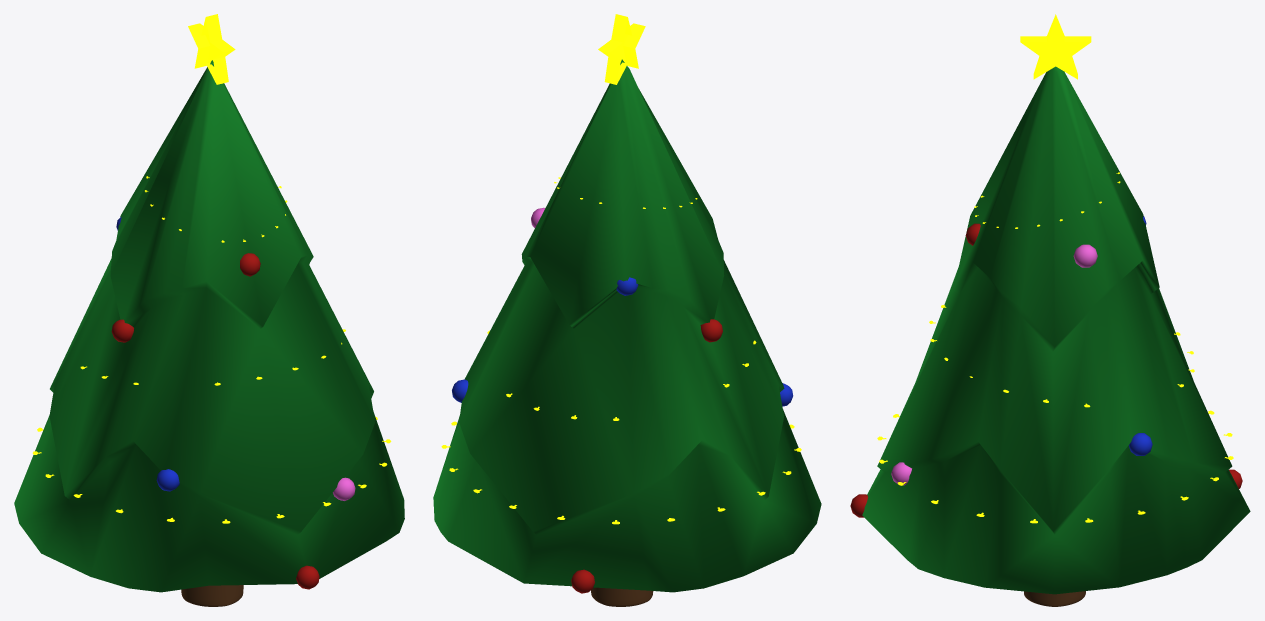
File: christmastree.fbx
3 renders of one model, left to right at view 1: azimuth 30°, elevation 25°; view 2: azimuth 150°, elevation 25°; view 3: azimuth 270°, elevation 25°, orthographic.
Visible parts, largest first — view 1: TreeTop, BezierCurve, TreeBark; view 2: TreeTop, BezierCurve, TreeBark; view 3: TreeTop, BezierCurve, TreeBark.
Boxes of the visible parts, box(x1,y1,x2,y2) form: TreeTop: box(14, 60, 404, 592); BezierCurve: box(188, 14, 235, 84); TreeBark: box(181, 585, 243, 606); TreeTop: box(433, 59, 821, 592); BezierCurve: box(598, 14, 645, 84); TreeBark: box(591, 587, 653, 606); TreeTop: box(862, 66, 1250, 594); BezierCurve: box(1020, 14, 1091, 79); TreeBark: box(1024, 591, 1085, 606).
Size of the model in its own units: 120 by 194 by 122.
